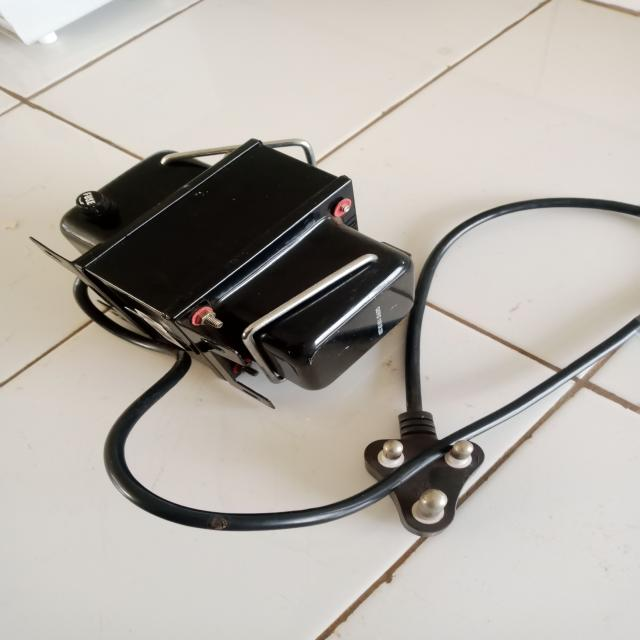Stepdown Transformer: (40, 138, 437, 394)
